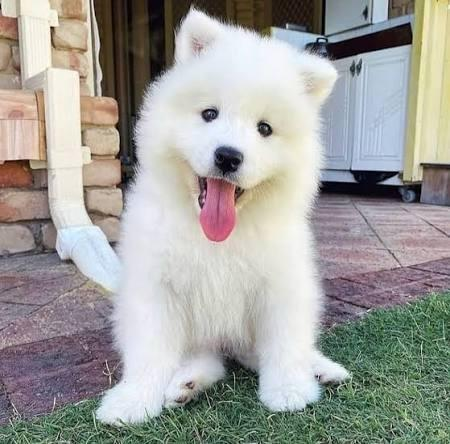puppy-dog: (56, 6, 349, 428)
